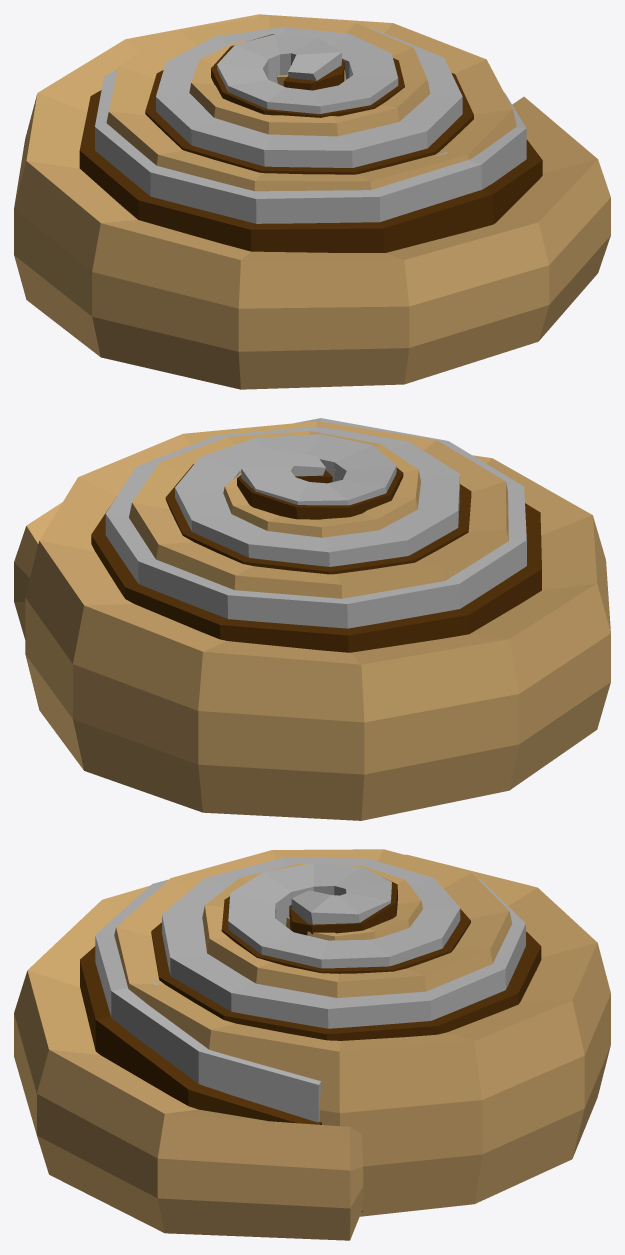
Rendered from cinnamonroll-transformed.glb.
3 renders of one model, top to bottom at view 1: azimuth 30°, elevation 25°; view 2: azimuth 150°, elevation 25°; view 3: azimuth 270°, elevation 25°, orthographic. The views are drawn at different scales.
Parts seen in each view (by area): view 1: Cube; view 2: Cube; view 3: Cube.
Boxes of the visible parts, x1,y1,x2,y2 form: Cube: [14, 14, 610, 389]; Cube: [14, 418, 610, 820]; Cube: [14, 849, 610, 1240].
Size of the model in its own units: 4.71 by 1.96 by 4.69.
